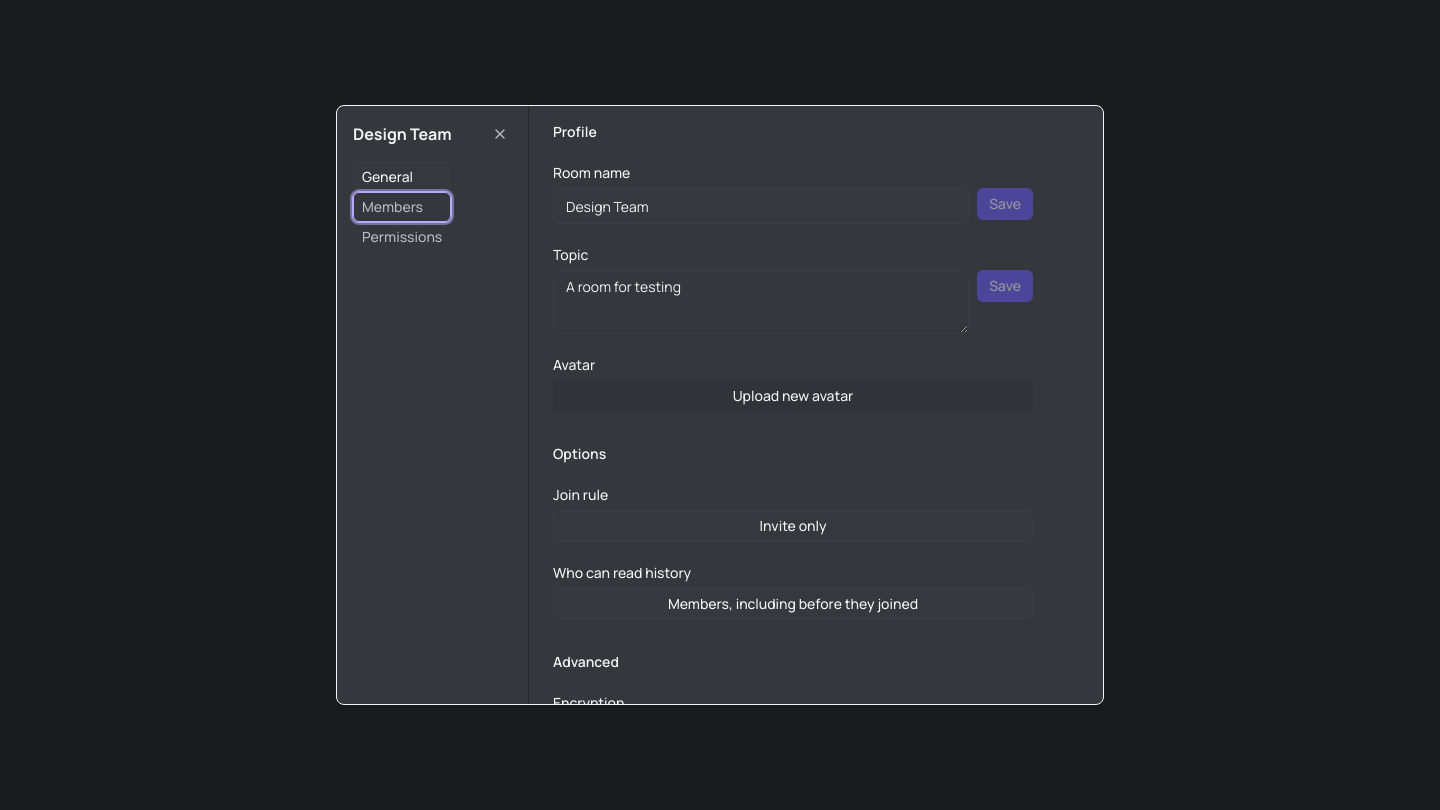
RoomSettingsModal › switches sections via the left-nav tabs
Expected: the field showing "Design Team" is shown, [553, 188, 969, 224]
Click the tab "Members" at (402, 207), box [353, 192, 451, 222]
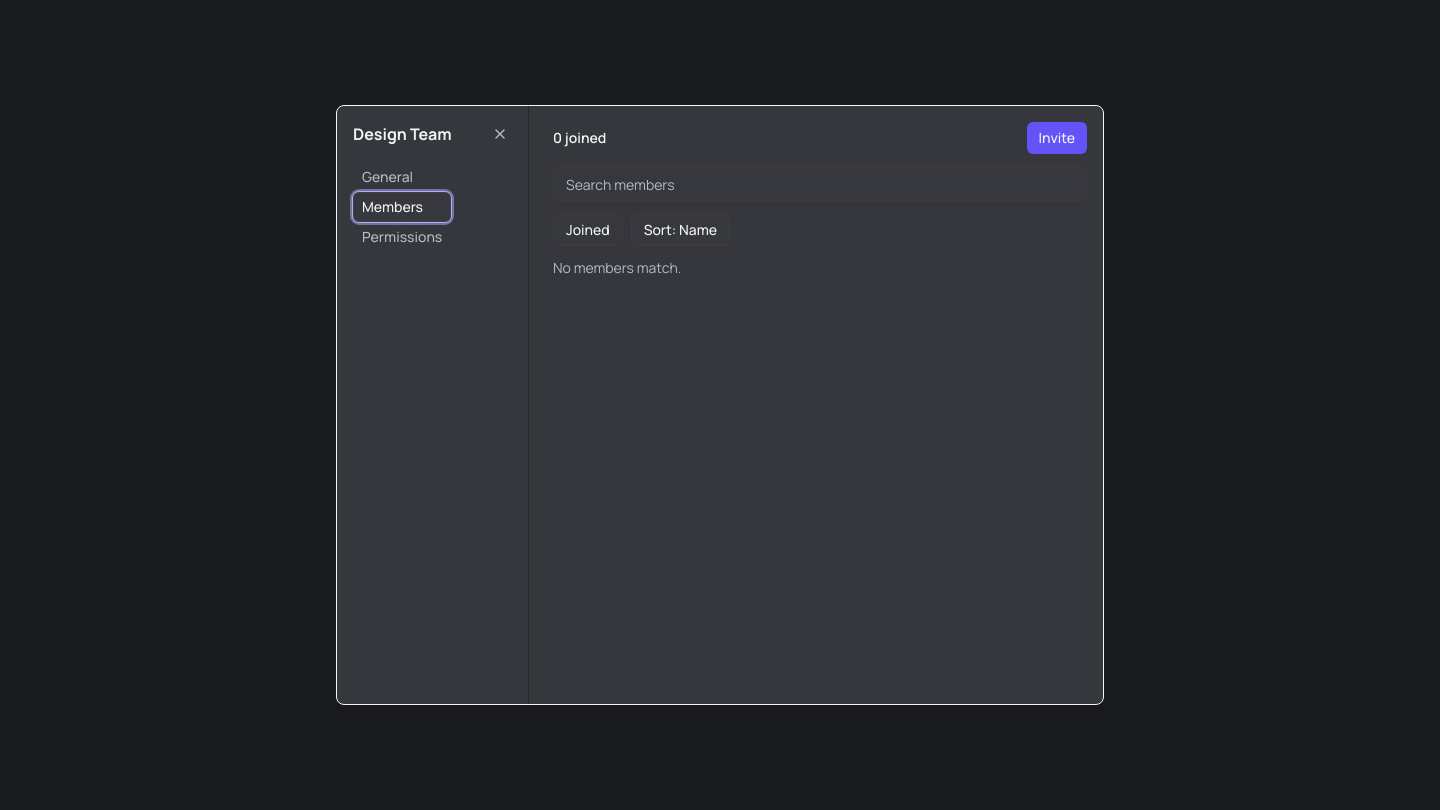
Expected: the field labelled "Search members" is shown, [553, 166, 1087, 202]
